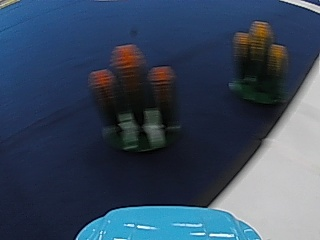corn: (90, 42, 176, 152), (231, 15, 288, 107)
